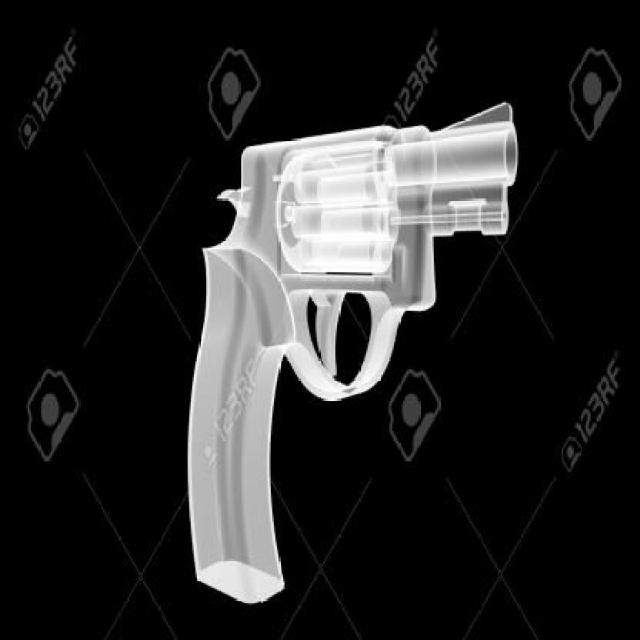pistol: (183, 98, 519, 605)
